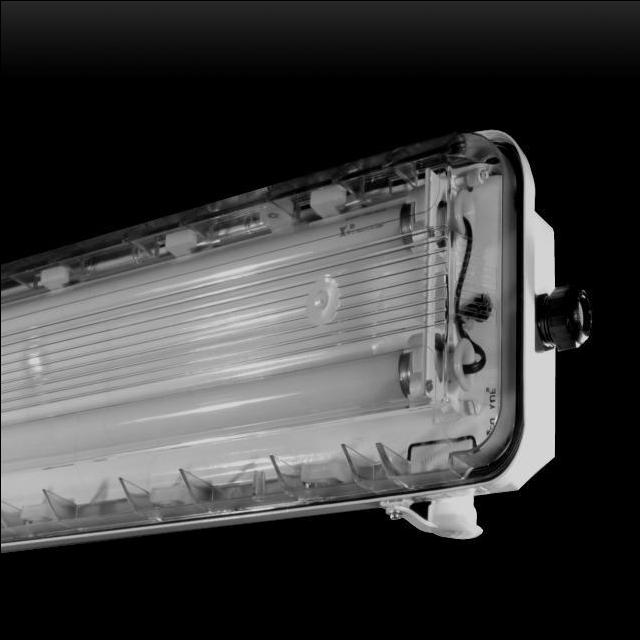light: (1, 128, 592, 553)
